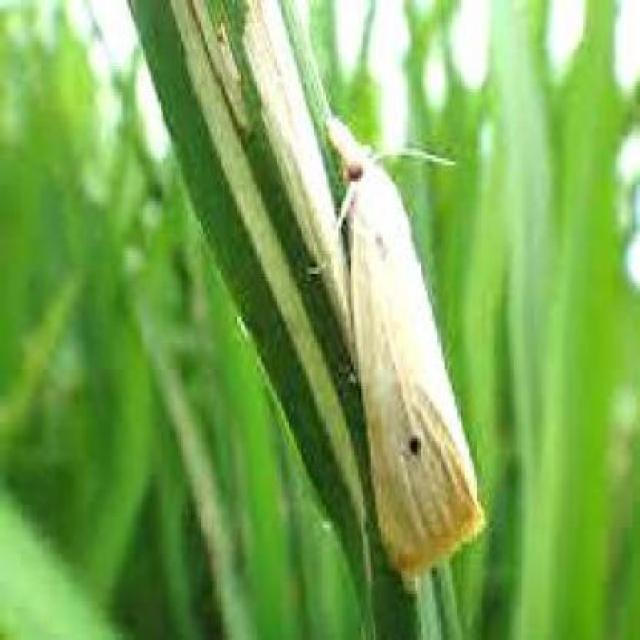stem-borer: (323, 111, 491, 580)
